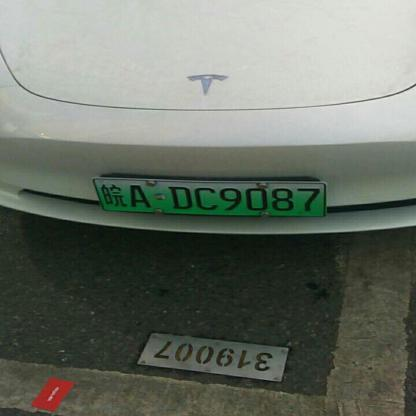lp: (92, 178, 327, 215)
